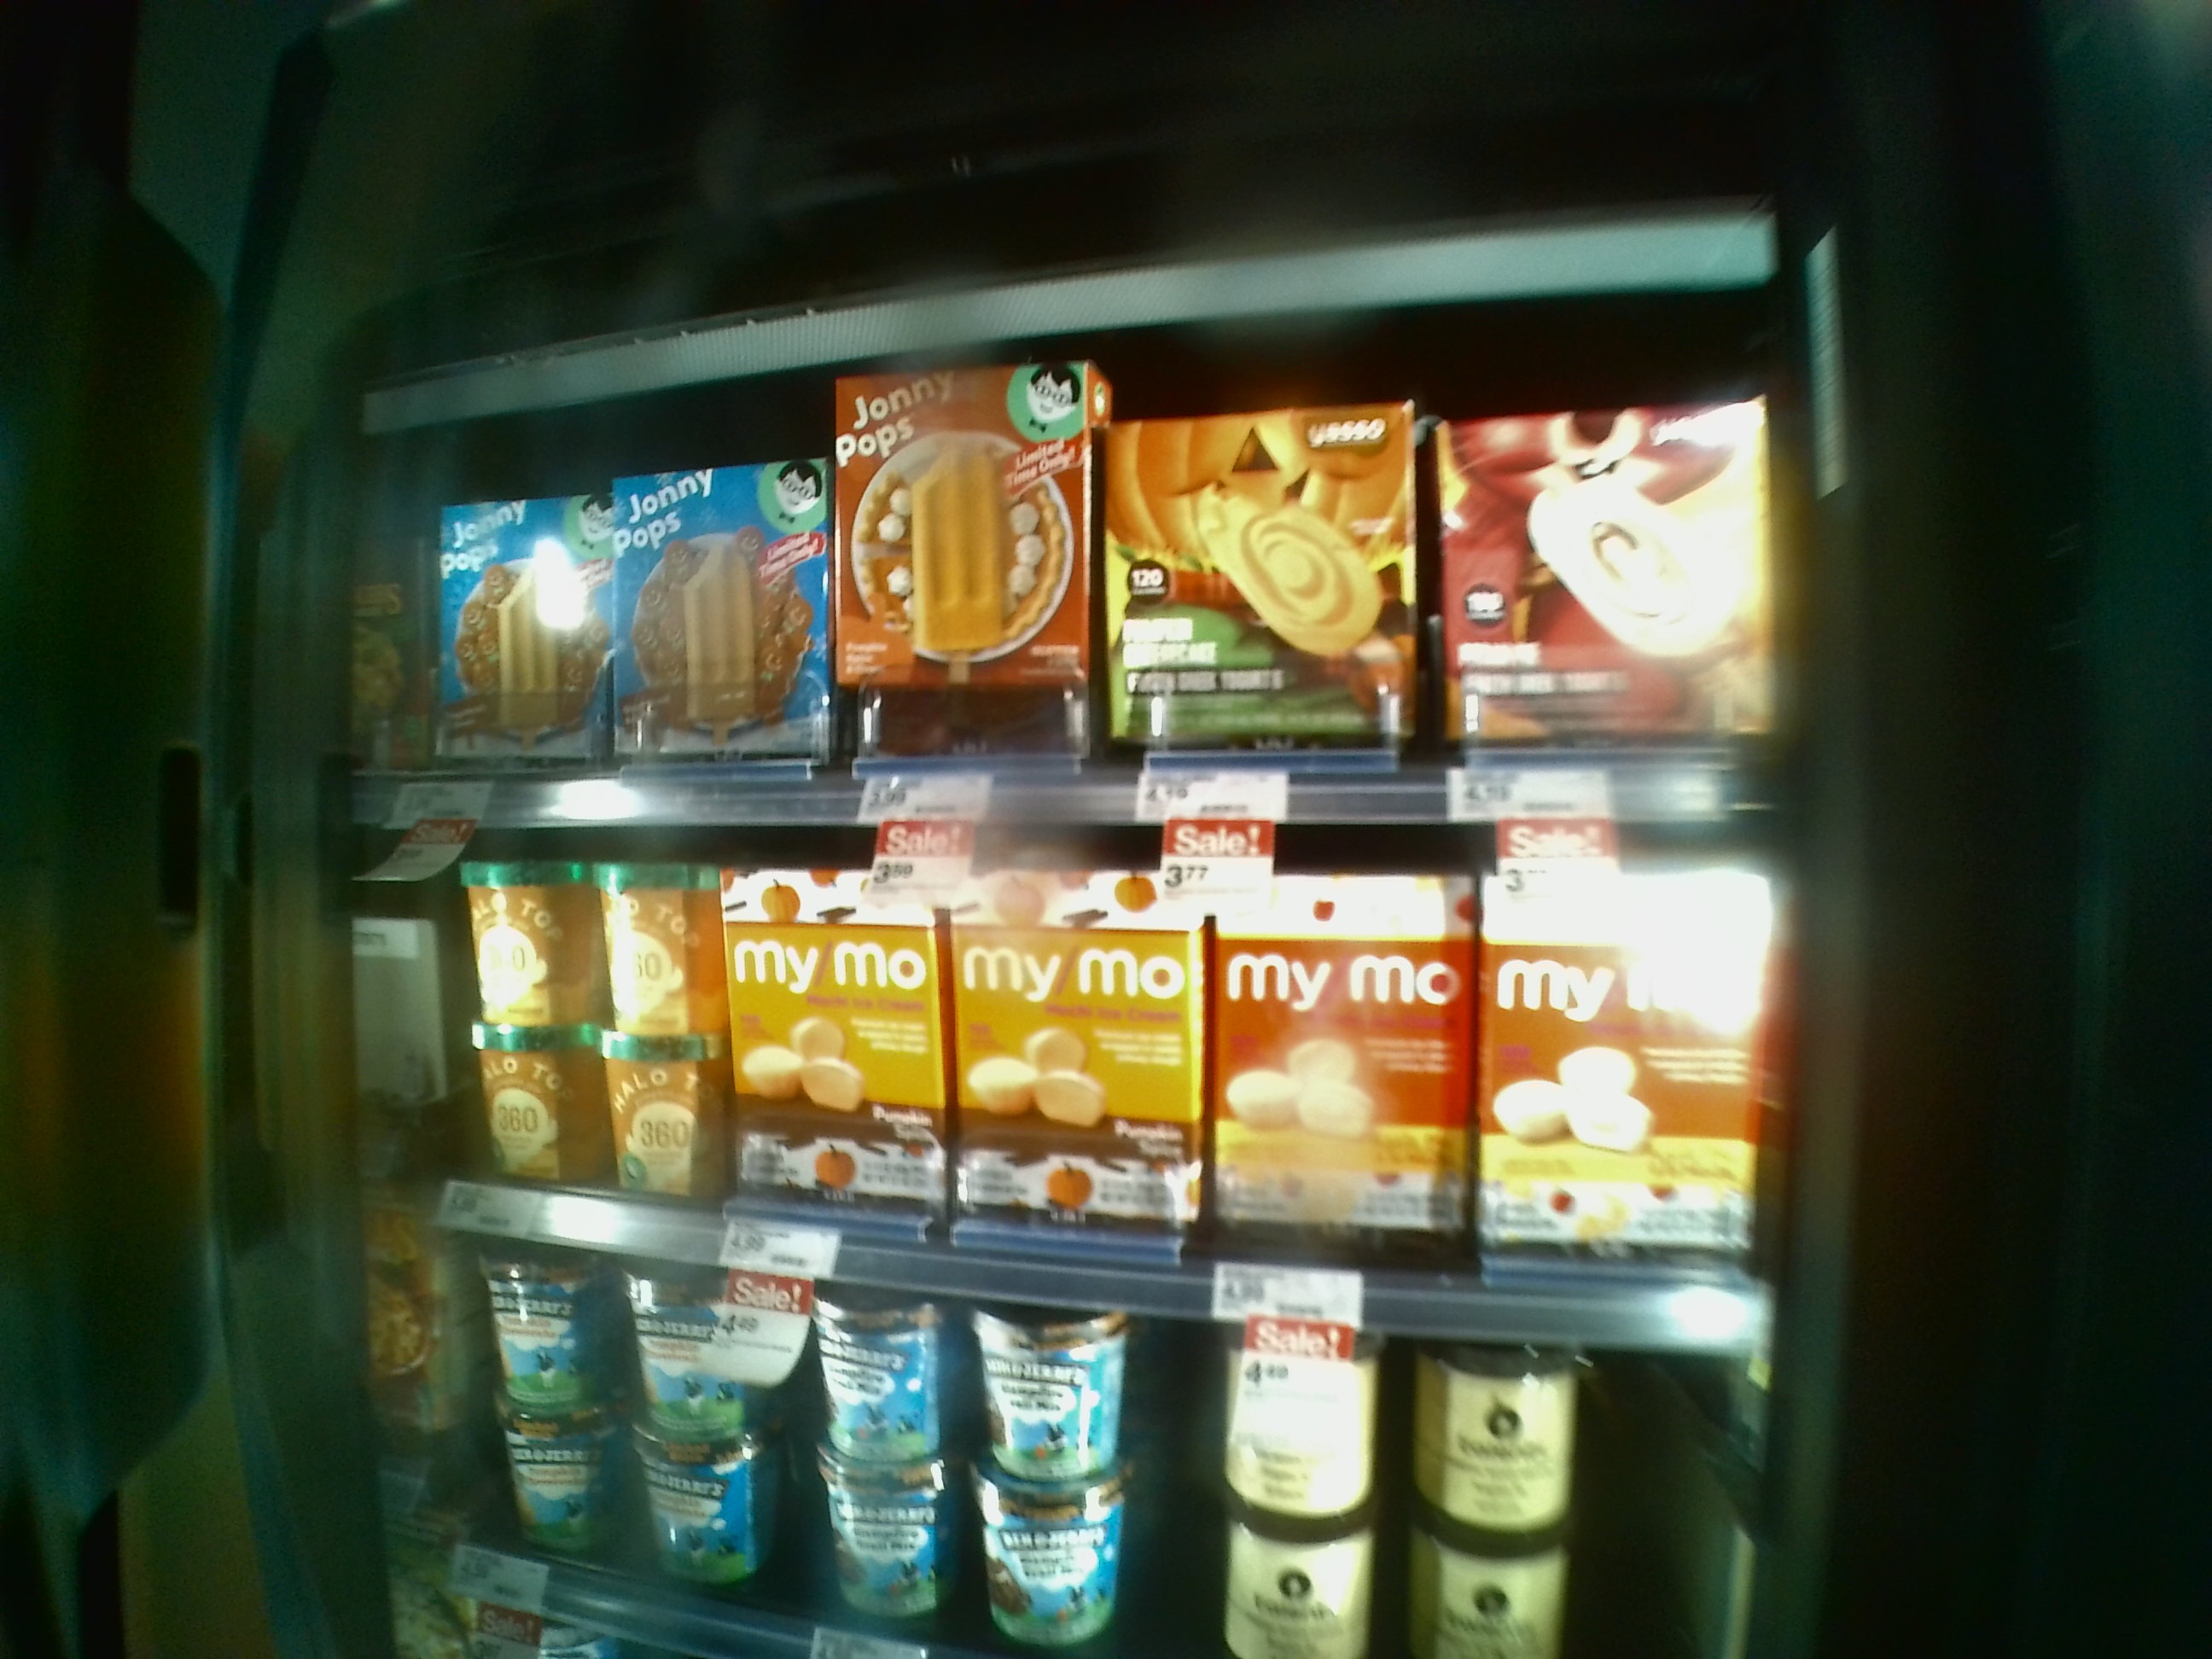shelf: (364, 784, 1768, 1331), (380, 354, 1778, 817)
